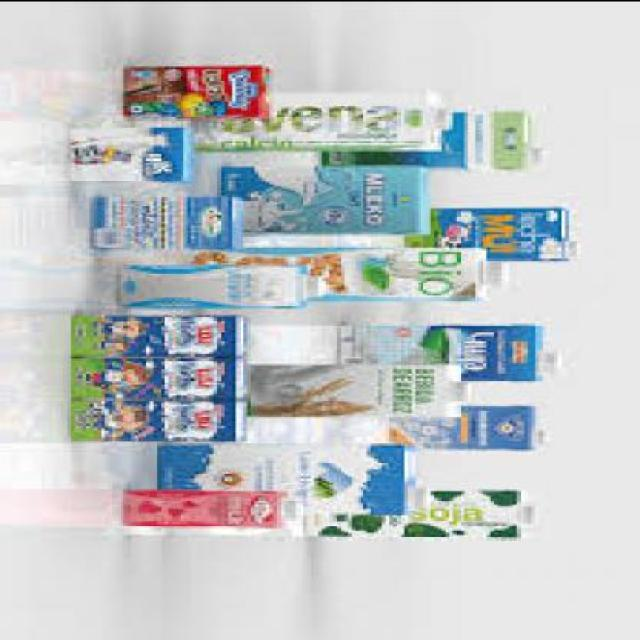CARDBOARD: (191, 82, 460, 153), (247, 320, 550, 378), (166, 442, 412, 512), (192, 245, 490, 301), (221, 161, 430, 228), (330, 113, 536, 175), (303, 485, 528, 538), (254, 361, 463, 414), (82, 192, 252, 248), (408, 205, 580, 257), (71, 309, 251, 357), (120, 63, 285, 115), (116, 261, 315, 302), (72, 396, 255, 439), (72, 355, 255, 396), (382, 402, 542, 448), (72, 126, 195, 179), (116, 489, 296, 525)
PLASTIC: (486, 256, 517, 281), (528, 139, 550, 164), (288, 499, 314, 518), (315, 268, 333, 292), (419, 483, 438, 505), (441, 102, 457, 124), (550, 345, 568, 364), (569, 237, 588, 255), (524, 502, 542, 520), (538, 419, 554, 438)
